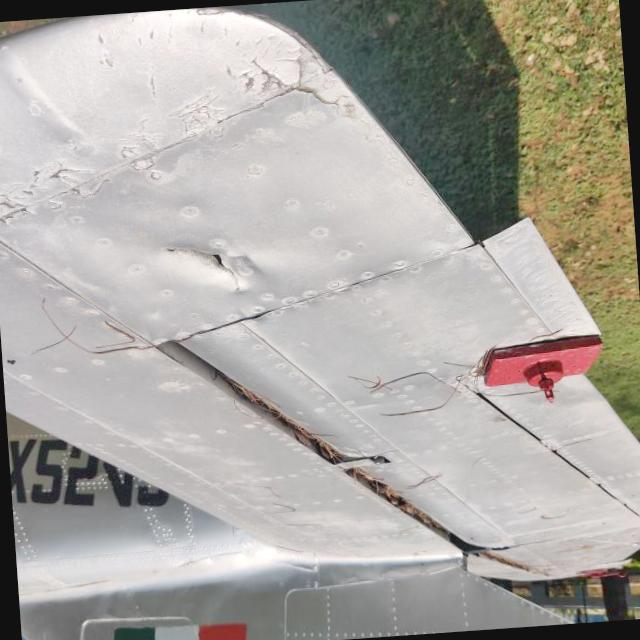crack: (156, 230, 266, 308)
